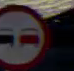No overtake: (0, 3, 45, 70)
